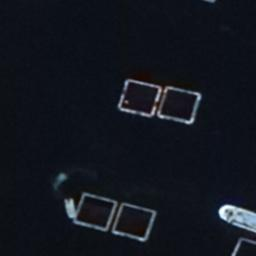square_solid: (69, 189, 124, 236), (113, 73, 167, 120), (154, 83, 204, 130), (109, 199, 160, 245)
